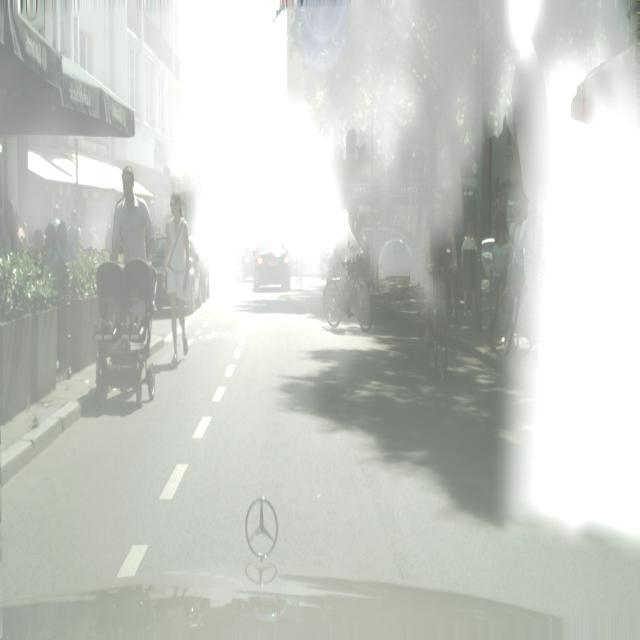car: (419, 175, 460, 383), (314, 213, 373, 344), (516, 251, 559, 371), (489, 262, 521, 363)
person: (89, 169, 159, 413), (159, 188, 190, 377), (599, 182, 625, 373), (568, 176, 601, 304), (620, 174, 639, 382), (489, 191, 510, 319), (519, 199, 545, 285), (490, 225, 510, 321), (507, 201, 523, 281), (458, 219, 475, 273)
truck: (352, 218, 418, 291), (150, 234, 202, 317), (251, 224, 295, 295), (189, 234, 214, 299), (476, 232, 502, 286), (318, 231, 340, 285), (235, 234, 257, 286), (224, 243, 238, 269)
